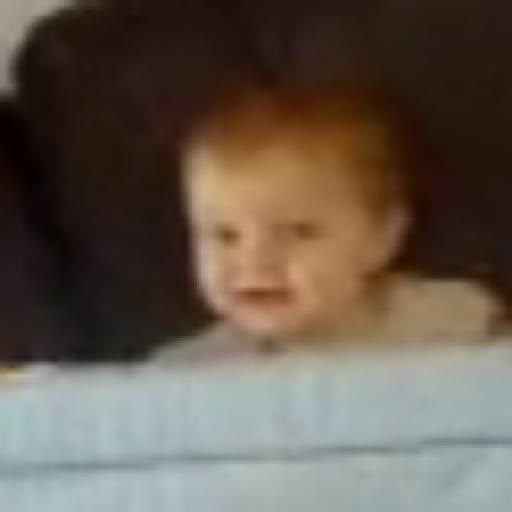Autism: (170, 92, 390, 356)
